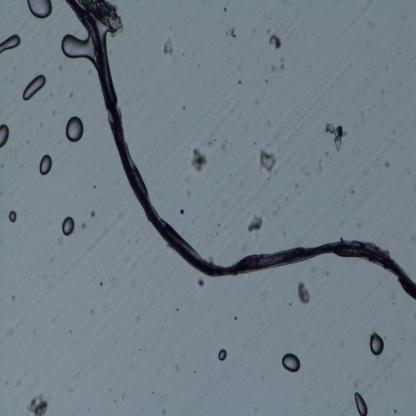Air bubble: (59, 32, 94, 66), (22, 72, 46, 102), (64, 113, 86, 143), (25, 0, 54, 20), (281, 350, 302, 374), (0, 32, 19, 58), (369, 330, 385, 359), (37, 153, 54, 176), (354, 391, 368, 416), (0, 122, 11, 150), (61, 215, 75, 237), (216, 345, 230, 362), (7, 207, 18, 225)
Background material: (319, 118, 350, 150), (188, 145, 213, 176), (258, 150, 279, 178), (264, 27, 285, 52), (28, 393, 49, 416), (243, 213, 264, 233), (298, 281, 311, 306), (162, 34, 174, 56), (278, 54, 290, 73), (254, 290, 268, 306), (357, 112, 368, 128), (221, 136, 232, 151), (108, 273, 119, 286), (172, 361, 183, 373), (372, 156, 383, 168), (252, 91, 260, 107), (87, 207, 98, 218), (226, 28, 237, 38), (79, 220, 88, 232), (159, 392, 168, 404), (196, 276, 205, 288), (184, 187, 192, 200), (264, 116, 272, 129), (206, 138, 216, 148), (226, 54, 233, 67), (49, 108, 57, 118), (107, 384, 113, 395), (306, 62, 312, 73), (179, 205, 185, 216), (183, 298, 191, 306), (269, 66, 277, 74), (236, 78, 243, 86), (384, 161, 392, 168), (40, 119, 46, 128), (90, 306, 96, 315), (350, 187, 356, 196), (130, 278, 135, 288), (68, 91, 75, 98), (24, 138, 30, 146), (160, 408, 166, 416), (34, 378, 40, 386), (232, 314, 238, 321), (356, 221, 362, 228), (406, 165, 410, 174), (58, 64, 63, 71), (10, 296, 17, 301), (136, 315, 140, 323), (121, 394, 126, 400), (224, 7, 228, 13), (17, 379, 20, 386), (99, 281, 103, 286), (265, 78, 268, 84), (197, 64, 200, 70), (176, 308, 180, 312), (183, 105, 186, 109)
Cellulose filter fibre: (83, 0, 128, 35)
Cotton: (67, 0, 416, 302)
